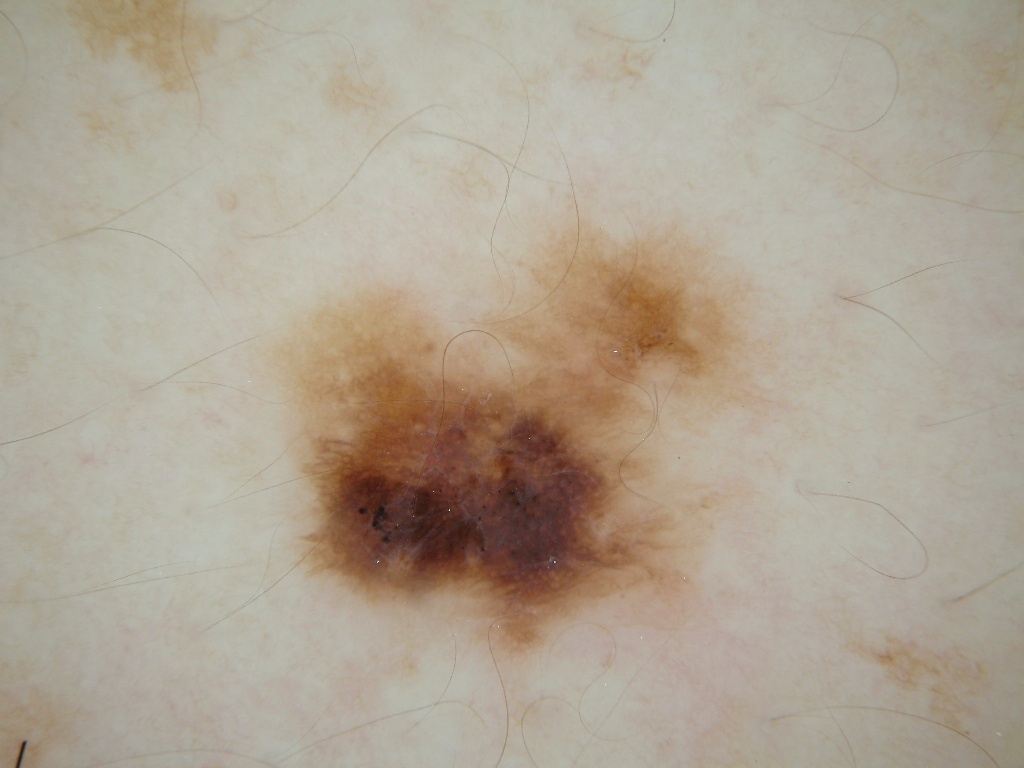Detected Lesion: (262, 227, 768, 661)
